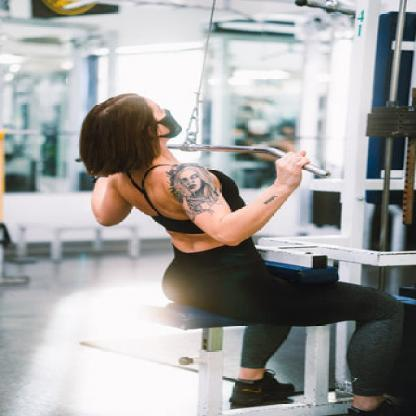Lat Pull Down: (69, 0, 416, 416)
